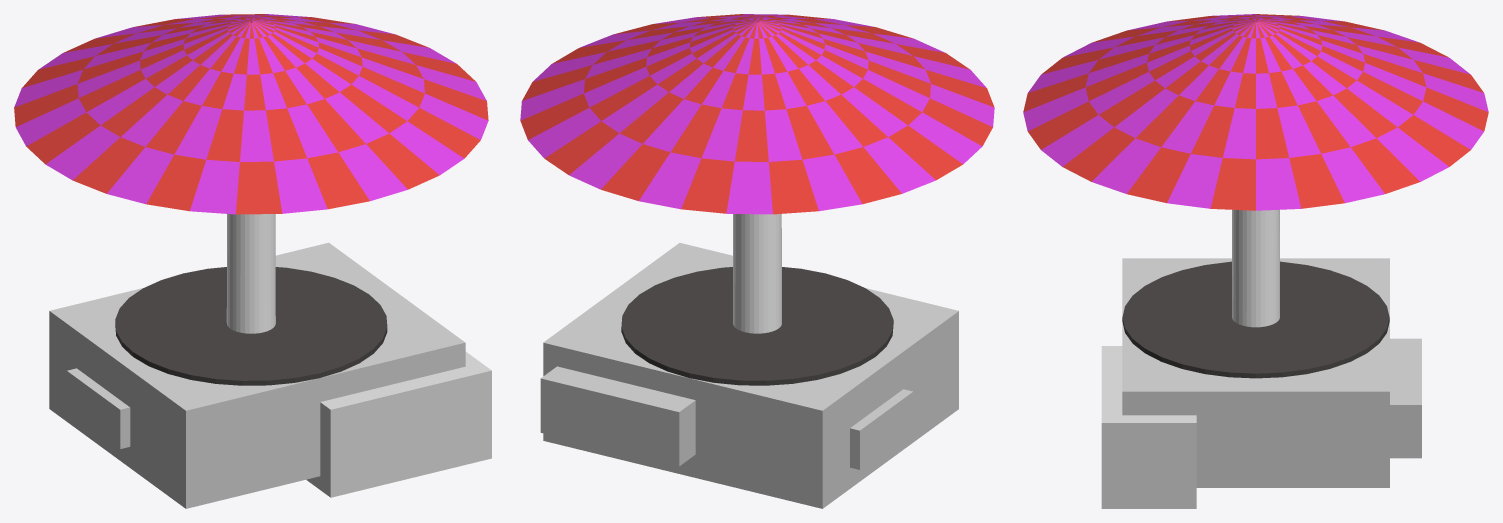
The picture shows the model from 3 angles, left to right: view 1: azimuth 30°, elevation 25°; view 2: azimuth 150°, elevation 25°; view 3: azimuth 270°, elevation 25°; orthographic projection. The views are drawn at different scales.
Visible parts, largest first — view 1: Circle, Cube, Cube.001, Cube.003; view 2: Circle, Cube, Cube.002, Cube.003; view 3: Circle, Cube, Cube.001, Cube.002.
Part boxes in pixels (box(x1,y1,x2,y2)): Circle: box(14, 14, 488, 385); Cube: box(49, 242, 465, 508); Cube.001: box(306, 351, 491, 497); Cube.003: box(66, 368, 130, 448); Circle: box(520, 14, 994, 385); Cube: box(543, 243, 958, 508); Cube.002: box(540, 366, 695, 466); Cube.003: box(850, 389, 913, 469); Circle: box(1023, 14, 1488, 378); Cube: box(1122, 258, 1389, 487); Cube.001: box(1101, 346, 1196, 508); Cube.002: box(1390, 338, 1421, 458).
Bounding box in the file's own units: 23.87 × 23.19 × 23.87.
